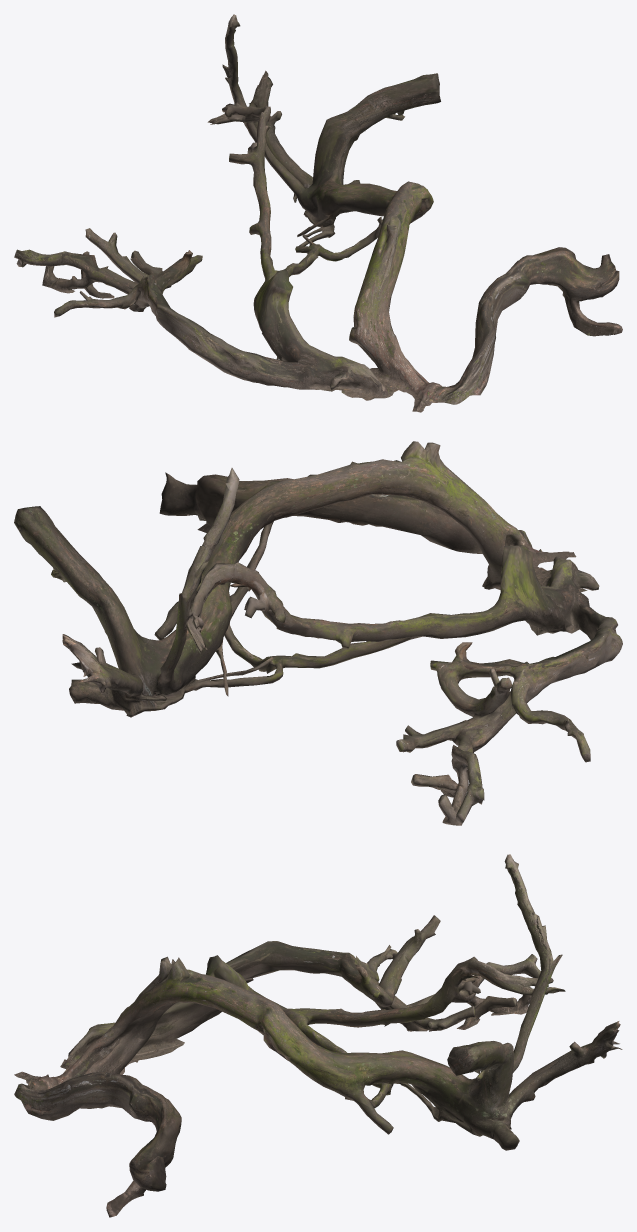
The model's file is sm_Roots_01_01.fbx.
3 views of the same model, one above another, from view 1: azimuth 30°, elevation 25°; view 2: azimuth 150°, elevation 25°; view 3: azimuth 270°, elevation 25° (orthographic). The views are drawn at different scales.
Visible parts, largest first — view 1: sm_Roots_01_01_LOD0; view 2: sm_Roots_01_01_LOD0; view 3: sm_Roots_01_01_LOD0.
Part boxes in pixels (x1,y1,x2,y2): sm_Roots_01_01_LOD0: (14,14,622,412); sm_Roots_01_01_LOD0: (14,441,622,825); sm_Roots_01_01_LOD0: (14,854,622,1217).
Bounding box in the file's own units: 174 × 188 × 87.27.
